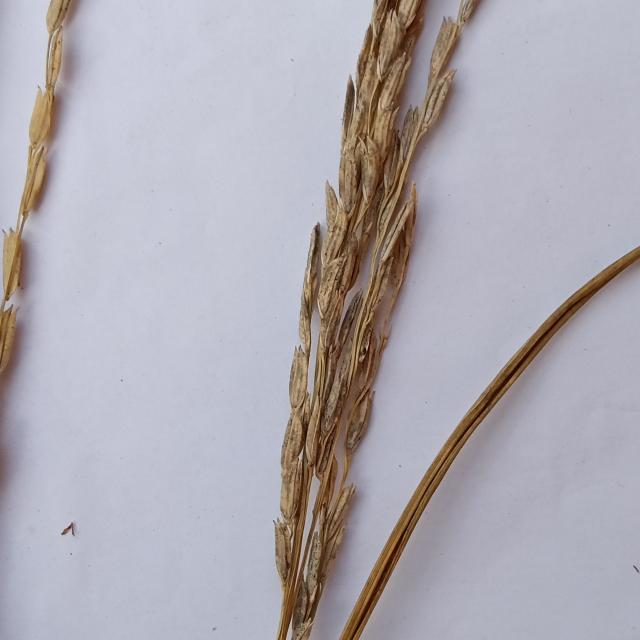Neck_Blast: (265, 0, 495, 640), (0, 0, 85, 384)
